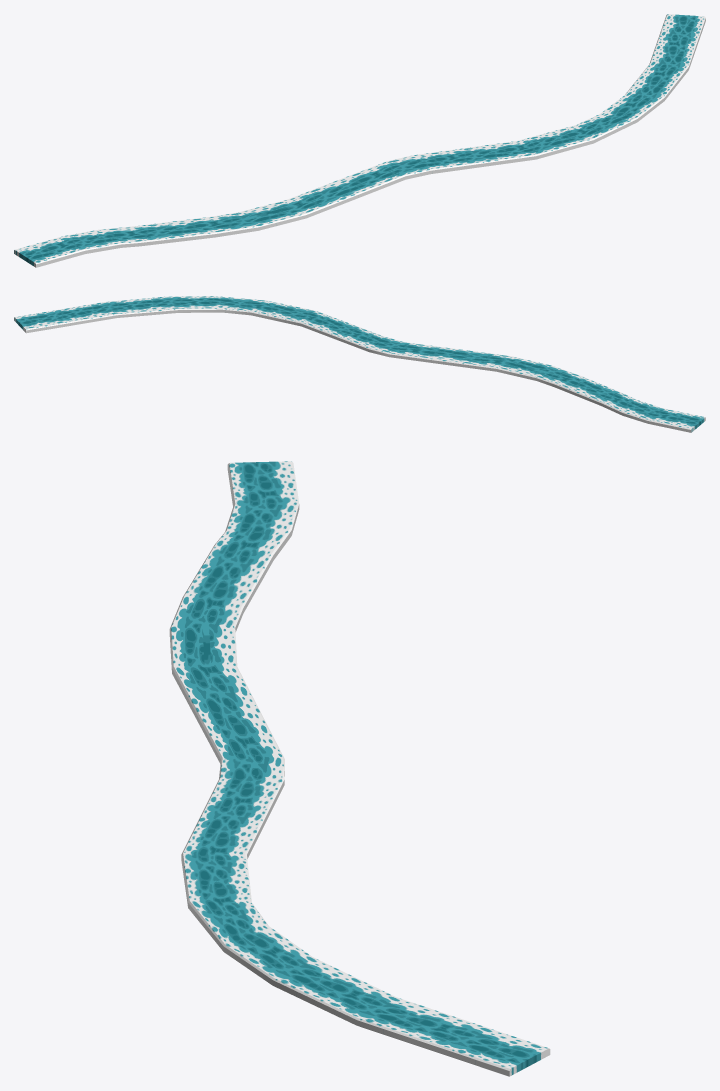
The model's file is River.fbx.
The picture shows the model from 3 angles, top to bottom: view 1: azimuth 30°, elevation 25°; view 2: azimuth 150°, elevation 25°; view 3: azimuth 270°, elevation 25°; orthographic projection. The views are drawn at different scales.
Parts seen in each view (by area): view 1: pPlane1; view 2: pPlane1; view 3: pPlane1.
Boxes of the visible parts, x1=… form: pPlane1: x1=14, y1=14, x2=705, y2=267; pPlane1: x1=14, y1=296, x2=705, y2=432; pPlane1: x1=169, y1=461, x2=550, y2=1076.
Bounding box in the file's own units: 4381 × 24.24 × 1158.
